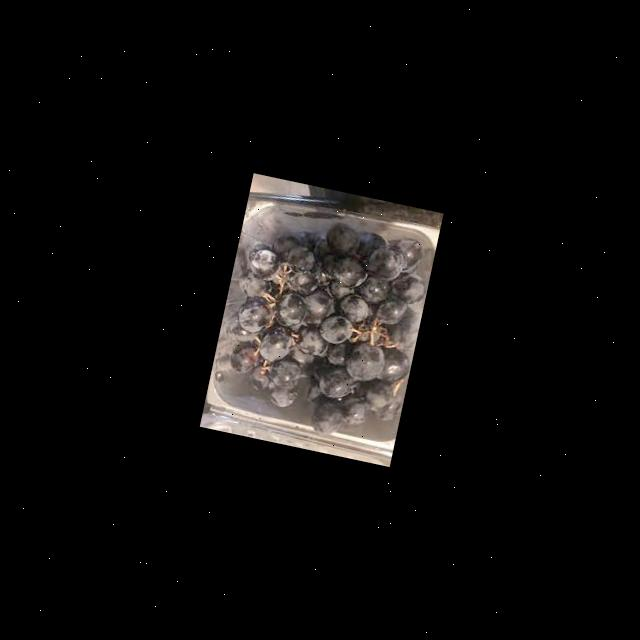grape: (208, 204, 436, 448)
